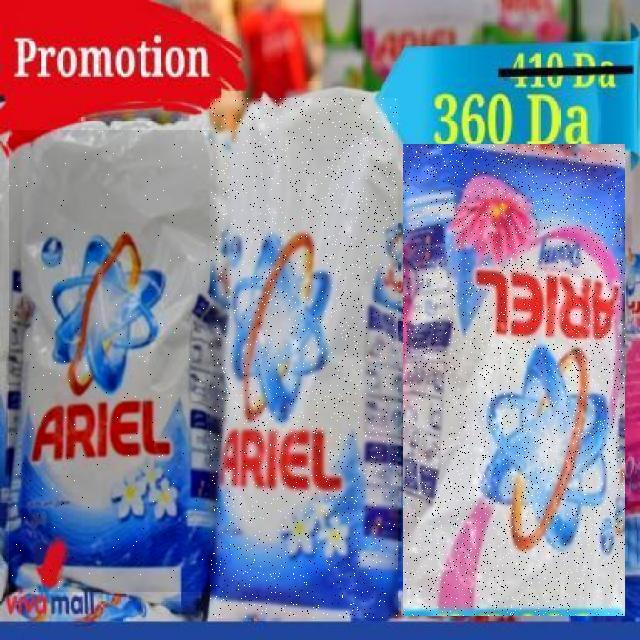Detergent: (403, 144, 625, 616), (210, 99, 398, 619), (9, 130, 217, 592)
